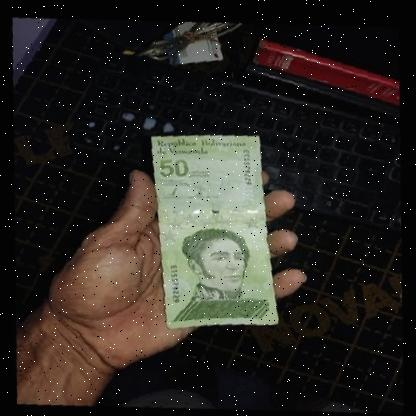fifty-front-vef: (149, 125, 276, 332)
